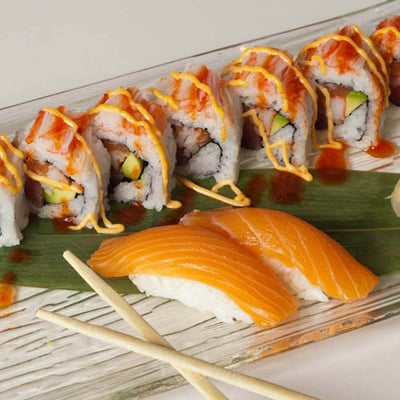soup: (13, 86, 175, 235)
taco: (220, 47, 318, 180)
